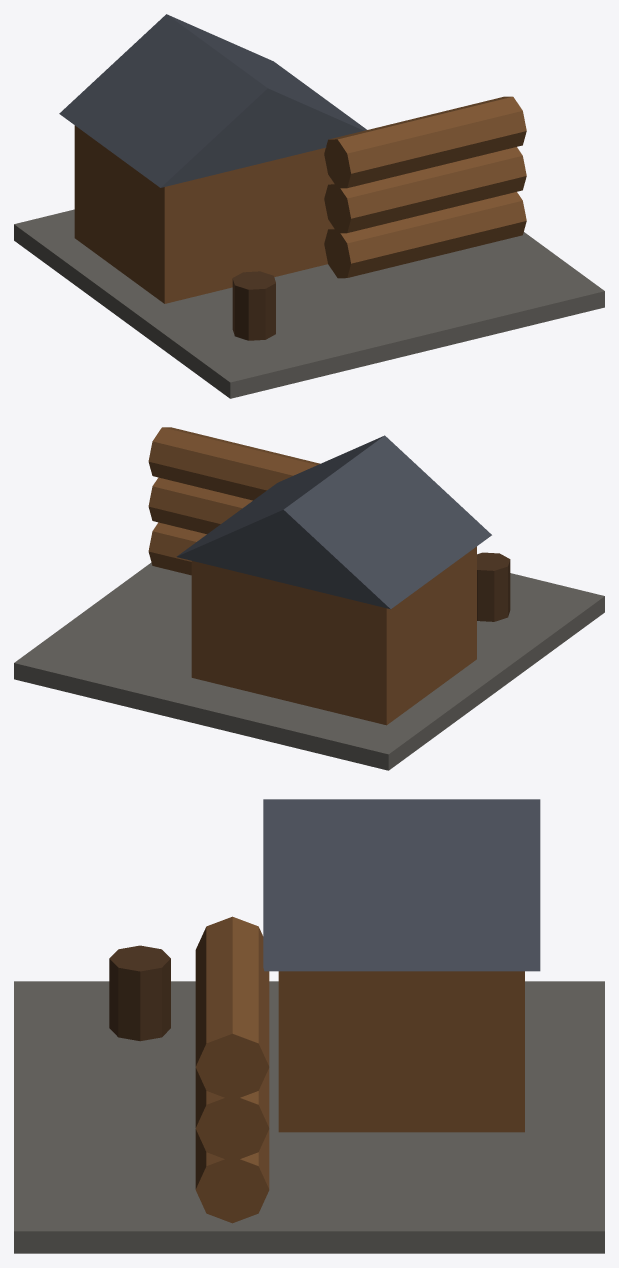
Rendered from lumber_mill.glb.
3 views of the same model, one above another, from view 1: azimuth 30°, elevation 25°; view 2: azimuth 150°, elevation 25°; view 3: azimuth 270°, elevation 25° (orthographic). The views are drawn at different scales.
Visible parts, largest first — view 1: lumber_mill; view 2: lumber_mill; view 3: lumber_mill.
Part boxes in pixels (x1,y1,x2,y2): lumber_mill: (14,14,604,398); lumber_mill: (14,427,604,770); lumber_mill: (14,799,604,1253).
Bounding box in the file's own units: 1.92 × 1.04 × 1.92.
